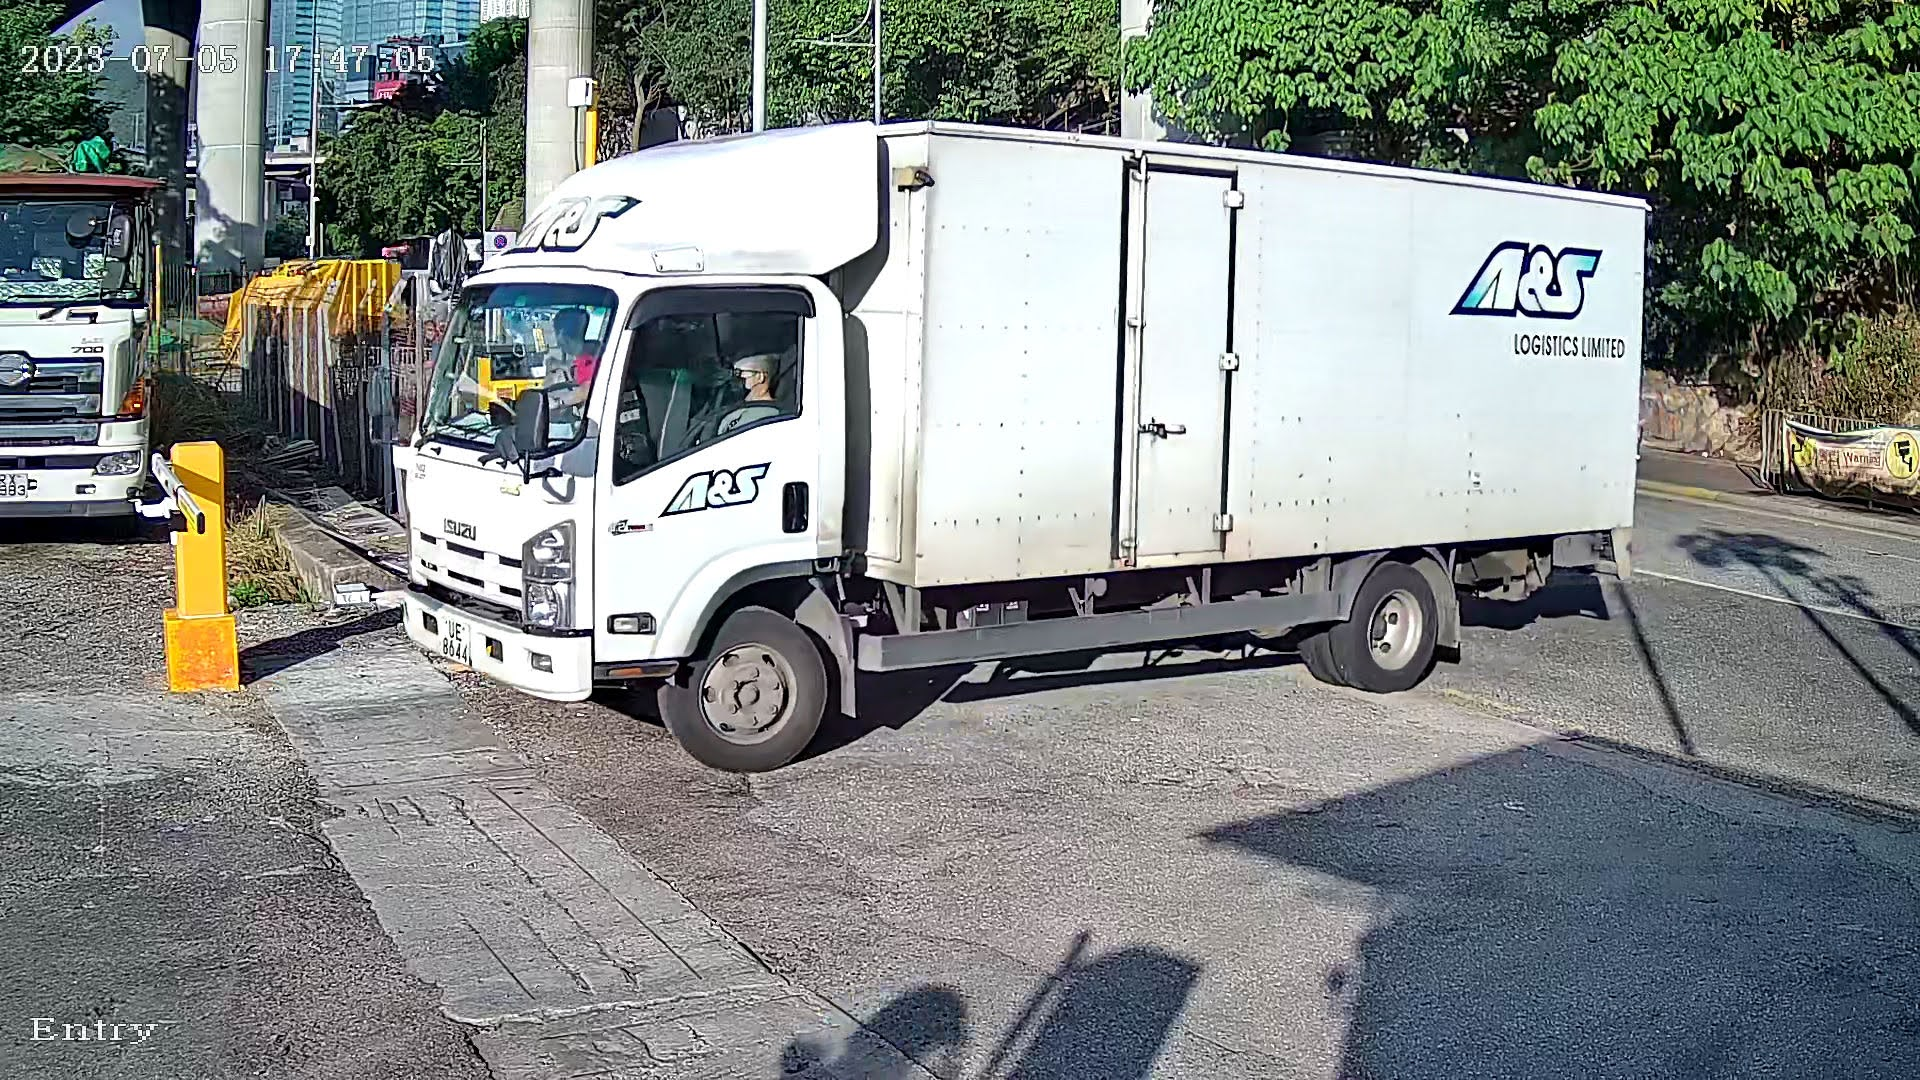truck: (357, 69, 1720, 807)
